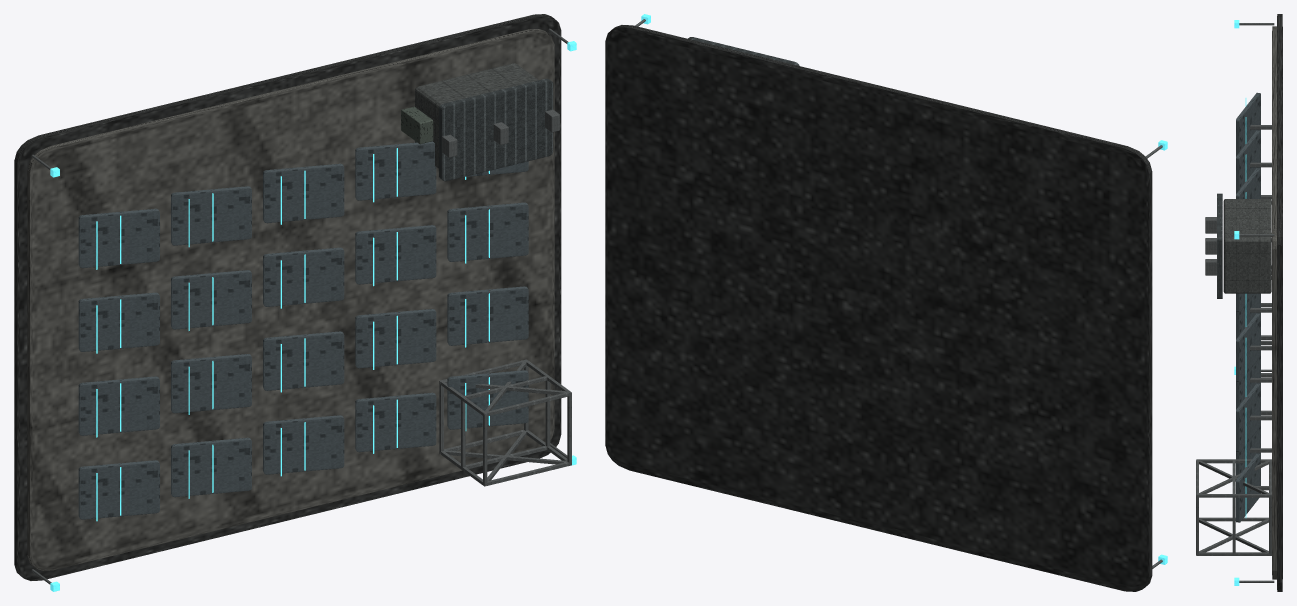
File: b-03-solar-array-lod0.glb
3 views of the same model, side by side, from view 1: azimuth 30°, elevation 25°; view 2: azimuth 150°, elevation 25°; view 3: azimuth 270°, elevation 25° (orthographic). The views are drawn at different scales.
Visible parts, largest first — view 1: foundation_inner_pad, foundation, inverter_house_roof, solar_2_2_panel, solar_3_2_panel, solar_0_0_panel, solar_0_2_panel, solar_1_0_panel, solar_0_1_panel, solar_1_2_panel, solar_3_0_panel, solar_1_1_panel (+12 smaller); view 2: foundation; view 3: inverter_house_main_hall, foundation, foundation_inner_pad, solar_1_4_panel, solar_2_4_panel, solar_0_4_panel, solar_3_1_panel, solar_3_0_panel, inverter_house_roof, solar_1_3_panel, solar_2_3_panel, solar_3_2_panel (+16 smaller).
Boxes of the visible parts, <box> form: foundation_inner_pad: <box>27,29,554,570</box>; foundation: <box>14,14,561,580</box>; inverter_house_roof: <box>439,78,553,181</box>; solar_2_2_panel: <box>263,247,344,306</box>; solar_3_2_panel: <box>263,163,344,223</box>; solar_0_0_panel: <box>78,460,159,519</box>; solar_0_2_panel: <box>263,415,344,474</box>; solar_1_0_panel: <box>78,376,159,435</box>; solar_0_1_panel: <box>171,437,251,497</box>; solar_1_2_panel: <box>263,331,344,390</box>; solar_3_0_panel: <box>78,208,159,268</box>; solar_1_1_panel: <box>171,354,251,413</box>; foundation: <box>605,25,1152,591</box>; inverter_house_main_hall: <box>1223,199,1271,293</box>; foundation: <box>1277,14,1282,591</box>; foundation_inner_pad: <box>1272,26,1276,579</box>; solar_1_4_panel: <box>1236,383,1260,452</box>; solar_2_4_panel: <box>1236,313,1260,382</box>; solar_0_4_panel: <box>1236,453,1260,522</box>; solar_3_1_panel: <box>1236,130,1260,194</box>; solar_3_0_panel: <box>1236,92,1260,156</box>; inverter_house_roof: <box>1217,193,1222,298</box>; solar_1_3_panel: <box>1236,355,1260,409</box>; solar_2_3_panel: <box>1236,293,1260,339</box>; solar_3_2_panel: <box>1236,168,1260,198</box>.
Size of what is drawn, in the model's own units: 18 by 14 by 2.97.
9 materials, 9 textured.
